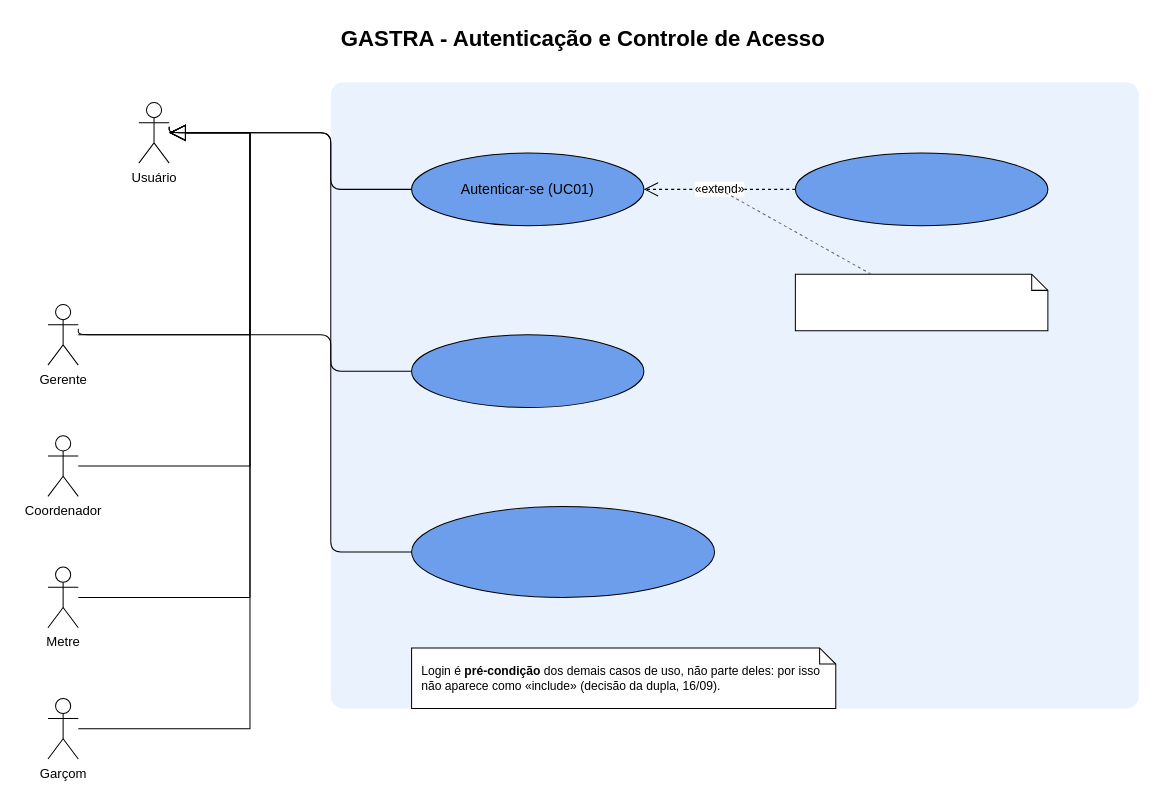
The diagram is 1166 pixels wide and 799 high, and some of its shapes have lost their labels. The box of each missing label's shape, as (x1, y1, x2, y2) in pixels:
Condição: papel = Gerente ou Coordenador (RF16): (794, 273, 1048, 331)
Confirmar Segundo Fator TOTP (UC02): (794, 152, 1048, 226)
Encerrar Sessão (UC03): (411, 334, 644, 408)
Gerenciar Contas de Usuário cadastrar/editar/inativar/reativar (UC04): (411, 506, 715, 597)
